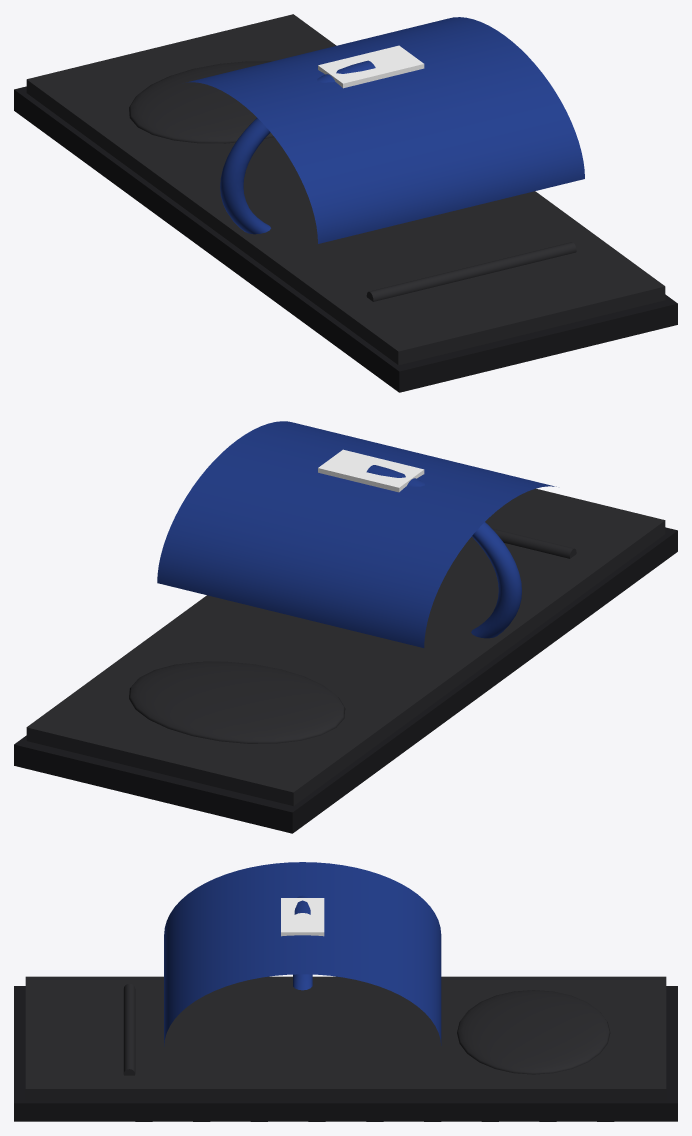
Rendered from slipper.glb.
3 renders of one model, top to bottom at view 1: azimuth 30°, elevation 25°; view 2: azimuth 150°, elevation 25°; view 3: azimuth 270°, elevation 25°, orthographic. The views are drawn at different scales.
Parts seen in each view (by area): view 1: Footbed_Molded, Upper_SlideBand, Outsole_Base, Footbed_HeelCup, Upper_Piping, Footbed_ToeCrest, Accent_BrandLogo; view 2: Footbed_Molded, Upper_SlideBand, Outsole_Base, Footbed_HeelCup, Upper_Piping, Accent_BrandLogo, Footbed_ToeCrest; view 3: Footbed_Molded, Upper_SlideBand, Outsole_Base, Footbed_HeelCup, Accent_BrandLogo, Footbed_ToeCrest, Upper_Piping.
Part boxes in pixels (bbox=[...]): Footbed_Molded: bbox=[26, 14, 665, 365]; Upper_SlideBand: bbox=[186, 17, 584, 243]; Outsole_Base: bbox=[14, 86, 677, 392]; Footbed_HeelCup: bbox=[129, 61, 273, 143]; Upper_Piping: bbox=[220, 60, 375, 234]; Footbed_ToeCrest: bbox=[366, 242, 576, 301]; Accent_BrandLogo: bbox=[318, 45, 424, 88]; Footbed_Molded: bbox=[26, 488, 665, 805]; Upper_SlideBand: bbox=[157, 421, 556, 647]; Outsole_Base: bbox=[14, 527, 677, 833]; Footbed_HeelCup: bbox=[129, 661, 345, 743]; Upper_Piping: bbox=[366, 465, 521, 638]; Accent_BrandLogo: bbox=[318, 449, 424, 492]; Footbed_ToeCrest: bbox=[492, 528, 576, 558]; Footbed_Molded: bbox=[25, 976, 666, 1100]; Upper_SlideBand: bbox=[164, 862, 441, 1046]; Outsole_Base: bbox=[14, 986, 677, 1121]; Footbed_HeelCup: bbox=[457, 990, 610, 1074]; Accent_BrandLogo: bbox=[281, 898, 324, 936]; Footbed_ToeCrest: bbox=[123, 983, 135, 1075]; Upper_Piping: bbox=[293, 895, 312, 990].
Bounding box in the file's own units: 0.995 × 0.5974 × 2.3.
